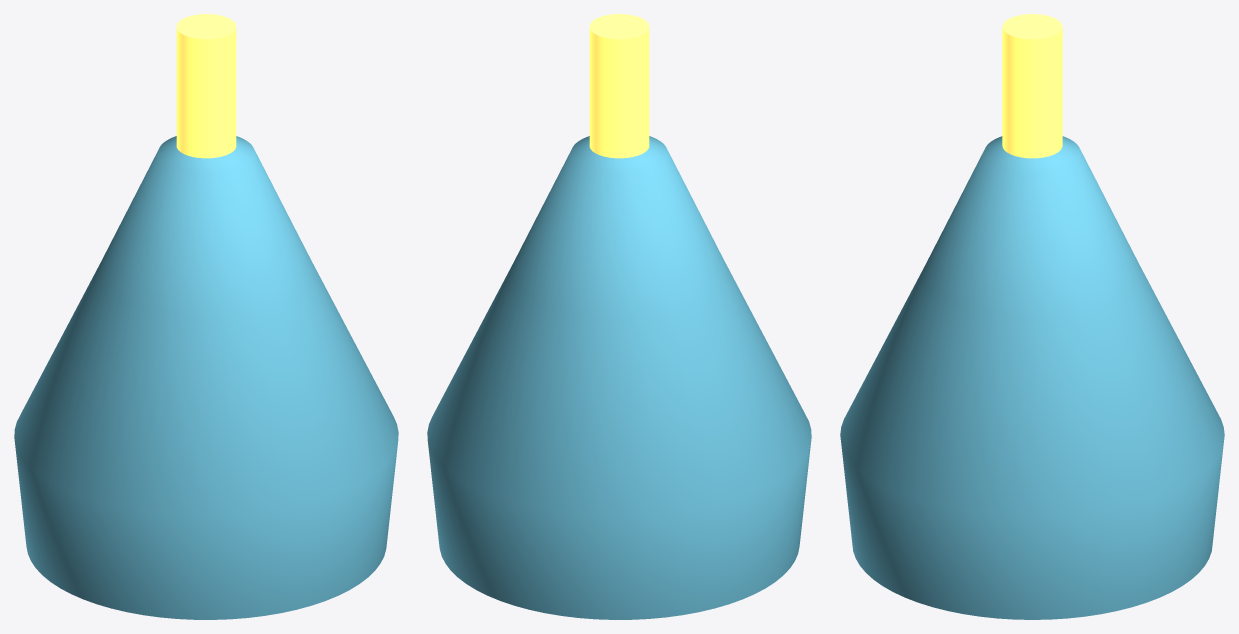
File: strelec.glb
3 views of the same model, side by side, from view 1: azimuth 30°, elevation 25°; view 2: azimuth 150°, elevation 25°; view 3: azimuth 270°, elevation 25° (orthographic).
Visible parts, largest first — view 1: strelec_telo, strelec_hlaven; view 2: strelec_telo, strelec_hlaven; view 3: strelec_telo, strelec_hlaven.
Part boxes in pixels (x1,y1,x2,y2): strelec_telo: [14, 136, 398, 619]; strelec_hlaven: [176, 14, 236, 158]; strelec_telo: [427, 136, 811, 619]; strelec_hlaven: [589, 14, 649, 158]; strelec_telo: [840, 136, 1224, 619]; strelec_hlaven: [1002, 14, 1062, 158].
Bounding box in the file's own units: 0.64 × 0.95 × 0.64.
